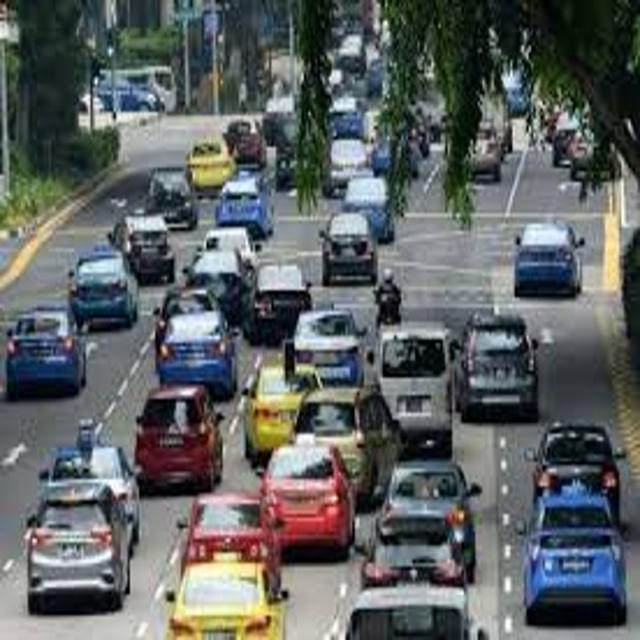car: (516, 494, 627, 616), (25, 486, 128, 607), (256, 446, 354, 551), (166, 560, 291, 640), (39, 448, 141, 541), (452, 314, 539, 420), (136, 387, 225, 486), (333, 585, 485, 640), (176, 493, 286, 562), (8, 305, 84, 394), (160, 313, 235, 396), (514, 222, 583, 298), (70, 253, 138, 325), (247, 266, 311, 338), (318, 215, 379, 281)
